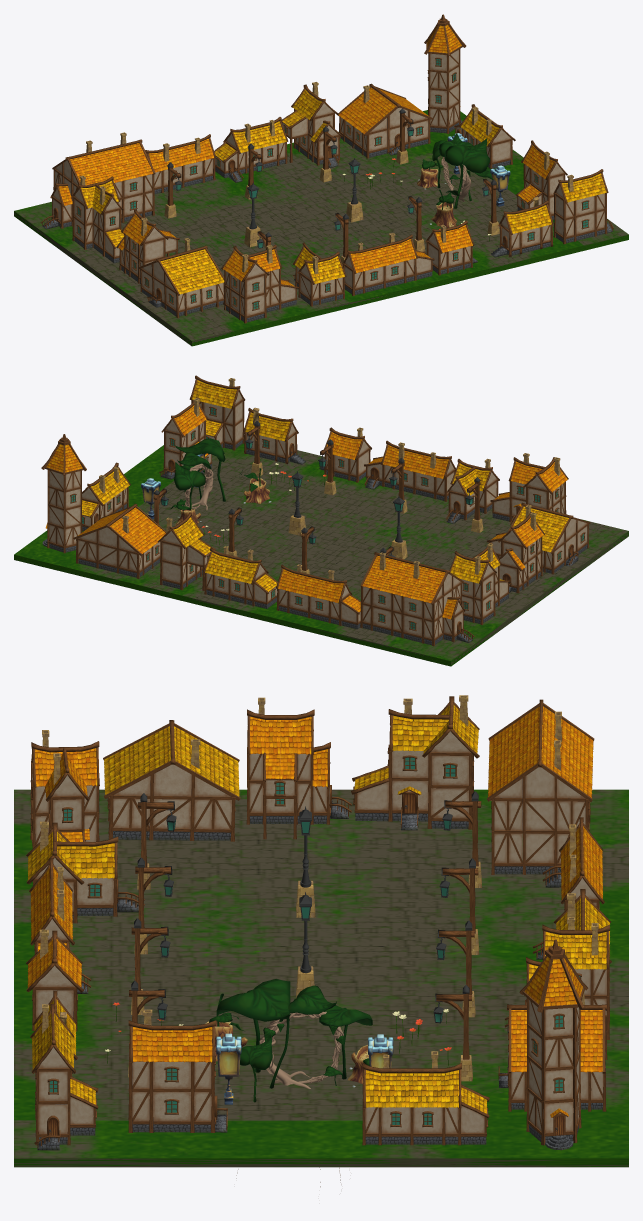
Rendered from streetlight.fbx.
The picture shows the model from 3 angles, top to bottom: view 1: azimuth 30°, elevation 25°; view 2: azimuth 150°, elevation 25°; view 3: azimuth 270°, elevation 25°; orthographic projection. The views are drawn at different scales.
Visible parts, largest first — view 1: ground.001, RH8, RH7, BH6, RH6, RH3, Tower.001, BH4, BH1, BH5, BH7, RH3.001 (+15 smaller); view 2: ground.001, RH8, RH7, RH3.001, Tower.001, RH3, BH5, RH6, BH4, BH7, RH4, BH6 (+18 smaller); view 3: ground.001, RH8, BH6, BH4, Tower.001, RH5, BH5.001, RH4, RH6, BH1, BH2, RH7 (+21 smaller).
Boxes of the visible parts, <box> form: ground.001: <box>14,110,628,346</box>; RH8: <box>40,132,155,229</box>; RH7: <box>337,83,432,158</box>; BH6: <box>138,238,224,317</box>; RH6: <box>221,244,298,323</box>; RH3: <box>342,233,434,295</box>; Tower.001: <box>424,14,466,133</box>; BH4: <box>71,175,124,263</box>; BH1: <box>553,169,613,244</box>; BH5: <box>214,117,288,182</box>; BH7: <box>281,82,343,167</box>; RH3.001: <box>145,134,215,196</box>; ground.001: <box>14,443,628,666</box>; RH8: <box>360,552,474,646</box>; RH7: <box>73,503,166,578</box>; RH3.001: <box>276,564,360,629</box>; Tower.001: <box>41,434,86,553</box>; RH3: <box>364,440,456,501</box>; BH5: <box>203,546,277,608</box>; RH6: <box>490,453,568,525</box>; BH4: <box>449,542,510,624</box>; BH7: <box>157,512,215,590</box>; RH4: <box>487,512,544,593</box>; BH6: <box>508,502,590,574</box>; ground.001: <box>14,789,628,1167</box>; RH8: <box>487,699,594,874</box>; BH6: <box>103,720,240,841</box>; BH4: <box>351,695,479,830</box>; Tower.001: <box>519,939,588,1150</box>; RH5: <box>128,1009,227,1132</box>; BH5.001: <box>362,1051,489,1145</box>; RH4: <box>246,697,351,839</box>; RH6: <box>30,730,99,848</box>; BH1: <box>30,1004,98,1150</box>; BH2: <box>26,821,144,923</box>; RH7: <box>498,989,607,1111</box>.
Bounding box in the file's own units: 77.45 × 30.13 × 54.62.
Materials: 10 (8 with a texture image).
